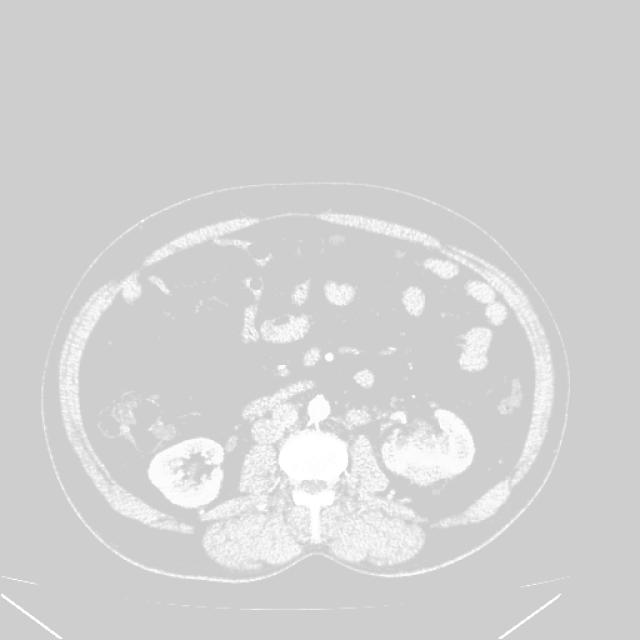TUMOR: (74, 256, 556, 513)
